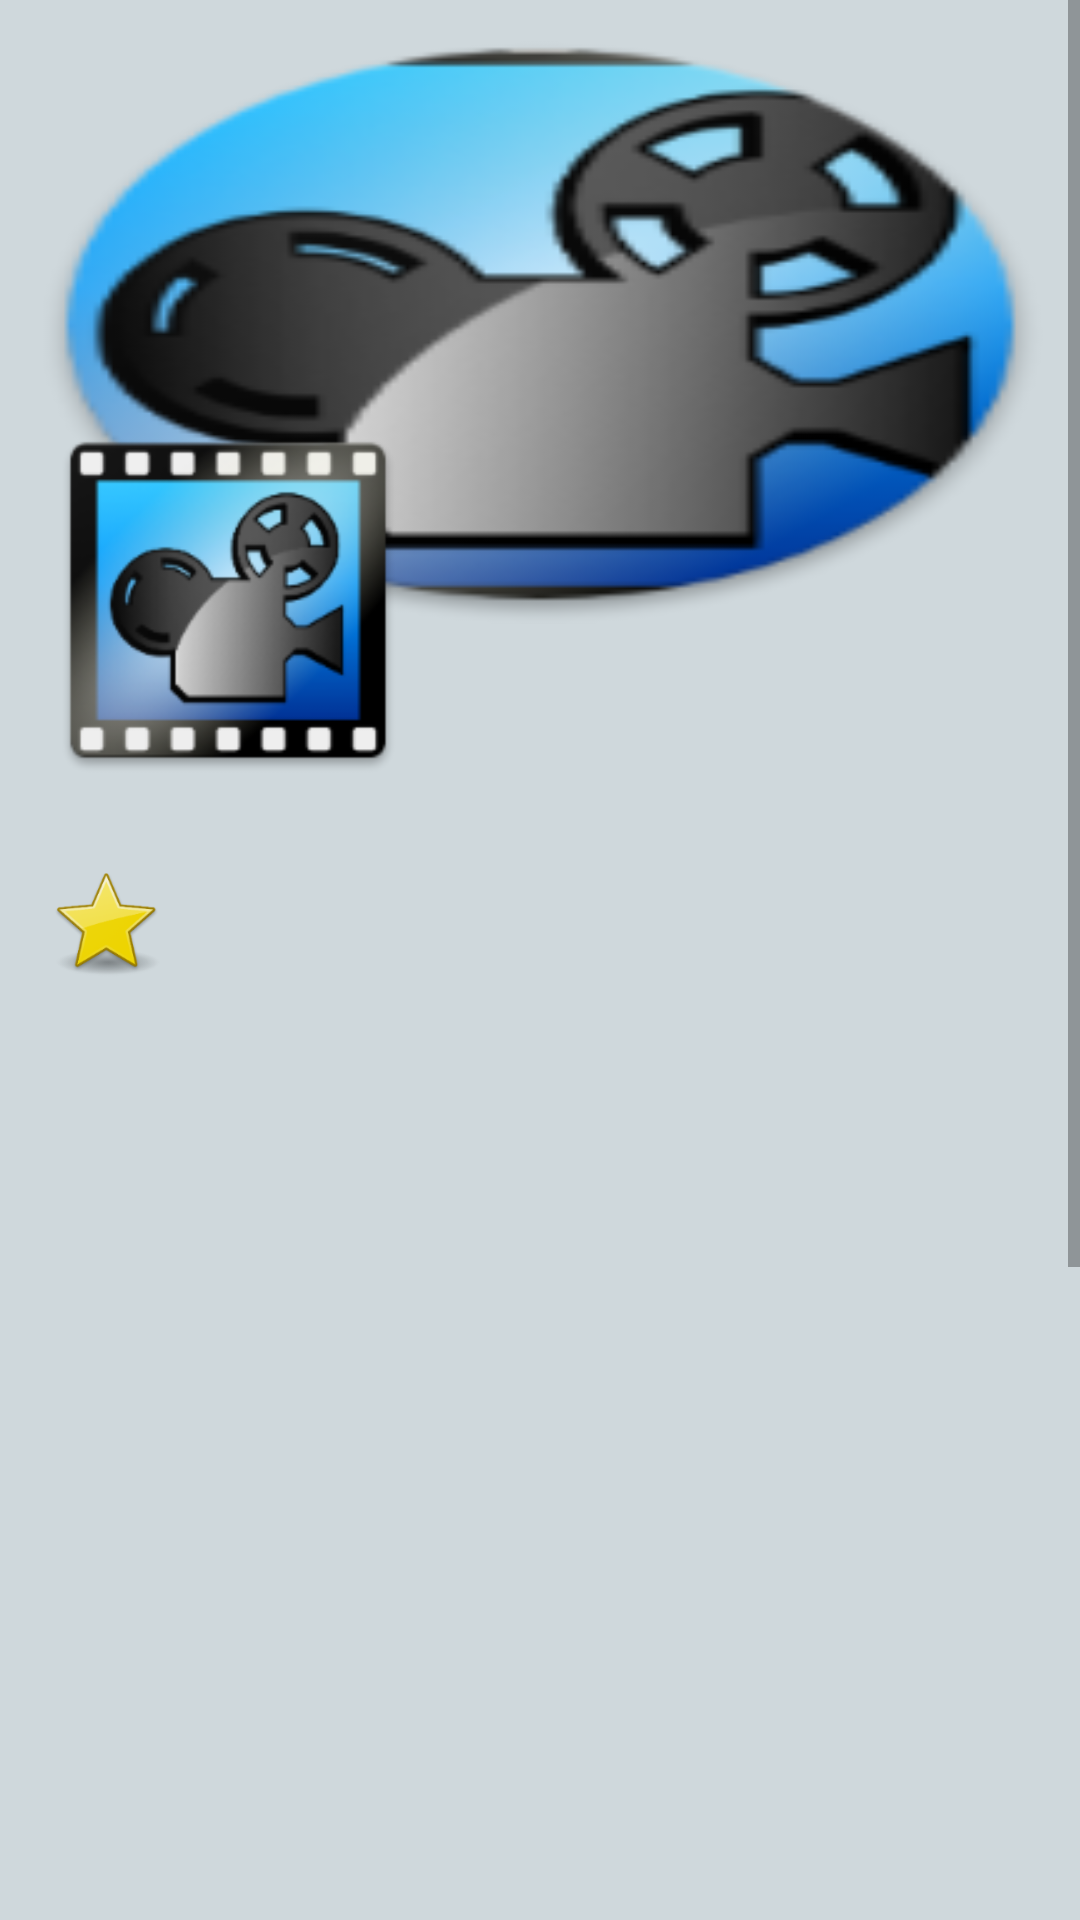

Screen size 1080*1920. Icon name, then its box in pixels as [x1=x1, y1=y1, x2=x2, y2=y2]:
star: [x1=57, y1=873, x2=156, y2=972]
